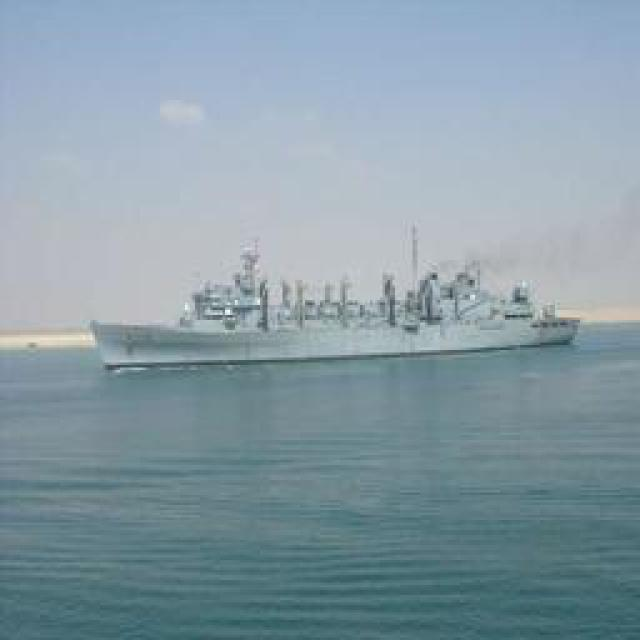Ship: (93, 272, 578, 365)
